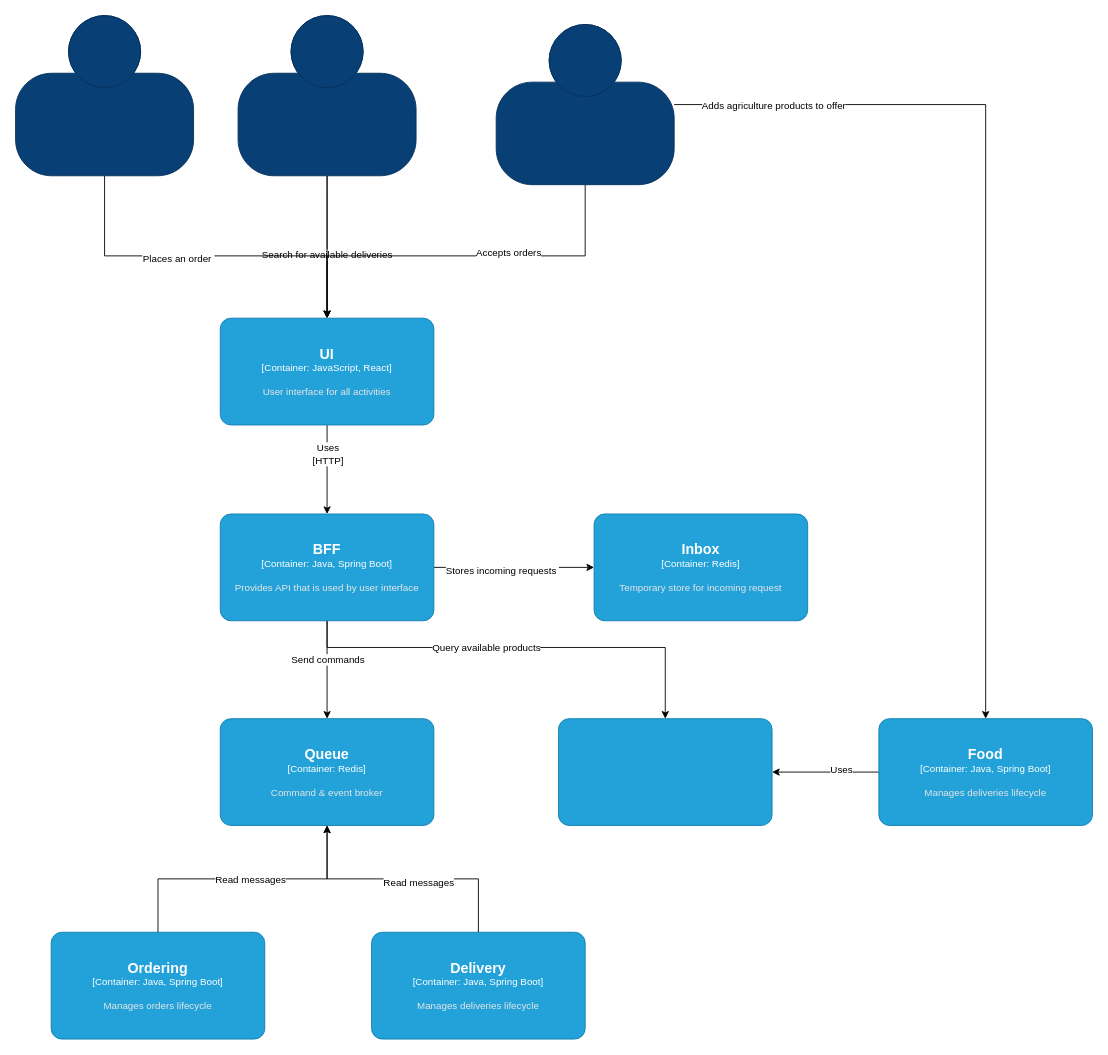
Image size: 1108x1055. Some labels were removed from this diagram. Each missing label, with the centre of its shape:
Customer [Person] Places an order: pixel 104 95
Delivery Man [Person] Delivers an order: pixel 326 95
Farm Manager [Person] Acepts and process orders: pixel 584 104
Full Text Search Store [Container: Redis] Meals storage: pixel 665 771
